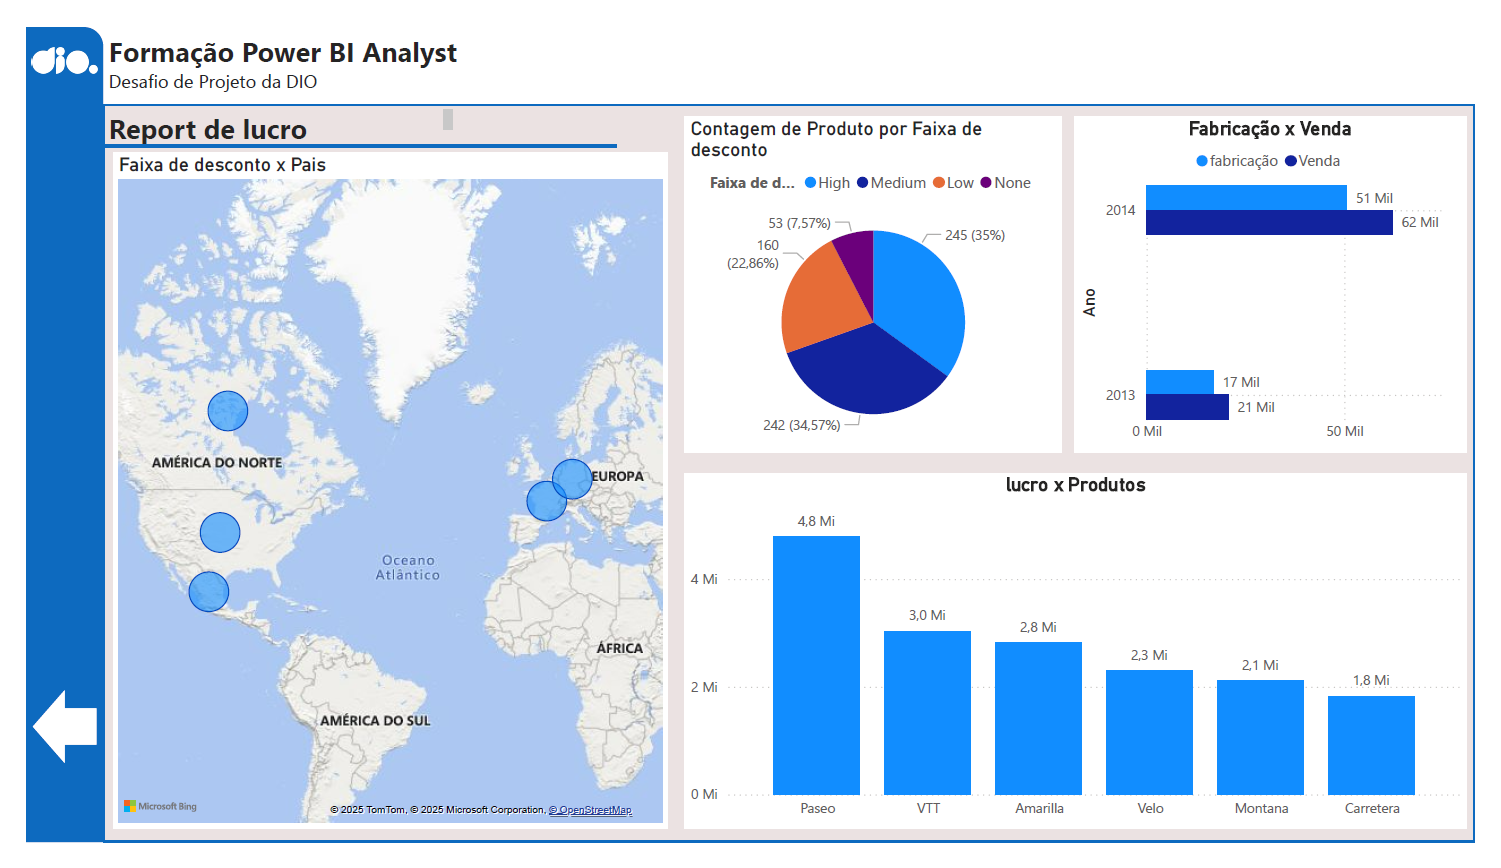

The dashboard page shown, as its layout file describes it:
{"tool":"powerbi","page":{"name":"Página 2","canvas":[1280,720],"ordinal":1},"visuals":[{"type":"shape","box":[0,0,68.1,719.8],"z":0},{"type":"image","box":[0,0,68.1,58.4],"z":1000},{"type":"shape","box":[5.8,585.5,56.4,64.2],"z":2000},{"type":"textbox","box":[68.1,0,1211.9,88.5],"z":3000},{"type":"shape","box":[68.3,68.3,1211.7,651.2],"z":4000},{"type":"textbox","box":[68.3,68.3,313.9,42.7],"z":5000},{"type":"shape","box":[68.3,88.6,453.7,32],"z":6000},{"type":"clusteredBarChart","title":"Fabricação x Venda","fields":{"Y":["Sum(financials.Preço de fabricação)","Sum(financials.Preço de venda)"],"Category":["financials.Date.Variation.Hierarquia de datas.Ano"]},"box":[925.6,79,347,296.8],"z":7000},{"type":"clusteredColumnChart","title":"lucro x Produtos","fields":{"Category":["financials.Produto"],"Y":["Sum(financials.Lucro)"]},"box":[581.8,393.9,690.7,313.9],"z":8000},{"type":"pieChart","fields":{"Category":["financials.Faixa de desconto"],"Y":["CountNonNull(financials.Produto)"]},"box":[581.8,79,333.1,296.8],"z":9000},{"type":"map","title":" Faixa de desconto x Pais","fields":{"Category":["financials.Pais"],"Size":["CountNonNull(financials.Faixa de desconto)"]},"box":[76.9,111,490,596.8],"z":10000}]}

Visuals, with their boxes in screenshot pixels (x1, y1, x2, y2), scaled from the page's 1280x720 canvas onto the 1501x868 screenshot:
shape: left=0, top=0, right=80, bottom=867
image: left=0, top=0, right=80, bottom=70
shape: left=7, top=706, right=73, bottom=783
textbox: left=80, top=0, right=1500, bottom=107
shape: left=80, top=82, right=1500, bottom=867
textbox: left=80, top=82, right=448, bottom=134
shape: left=80, top=107, right=612, bottom=145
"Fabricação x Venda" clusteredBarChart: left=1085, top=95, right=1492, bottom=453
"lucro x Produtos" clusteredColumnChart: left=682, top=475, right=1492, bottom=853
pieChart - financials.Faixa de desconto x CountNonNull(financials.Produto): left=682, top=95, right=1073, bottom=453
" Faixa de desconto x Pais" map: left=90, top=134, right=665, bottom=853
